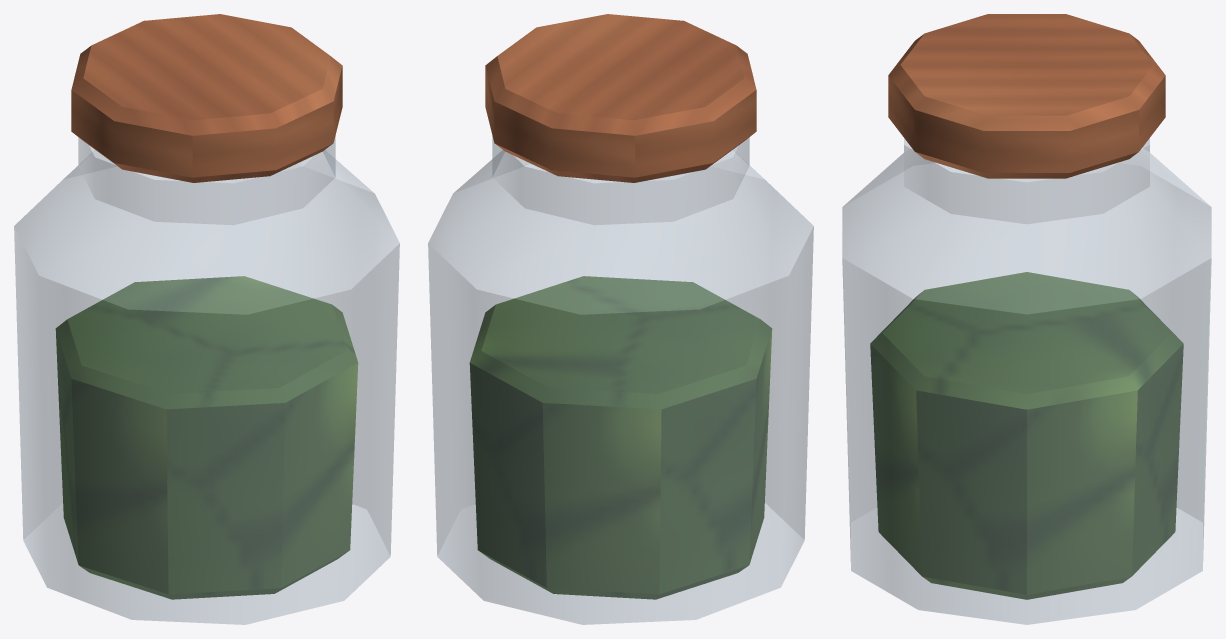
File: jar.gltf
3 renders of one model, left to right at view 1: azimuth 30°, elevation 25°; view 2: azimuth 150°, elevation 25°; view 3: azimuth 270°, elevation 25°, orthographic.
Parts seen in each view (by area): view 1: jar_mesh; view 2: jar_mesh; view 3: jar_mesh.
Part boxes in pixels (left/top/right/bottom): jar_mesh: left=14, top=14, right=399, bottom=624; jar_mesh: left=428, top=14, right=813, bottom=624; jar_mesh: left=842, top=14, right=1211, bottom=624.
Bounding box in the file's own units: 0.168 × 0.23 × 0.1598.
Materials: 3 (2 with a texture image).
